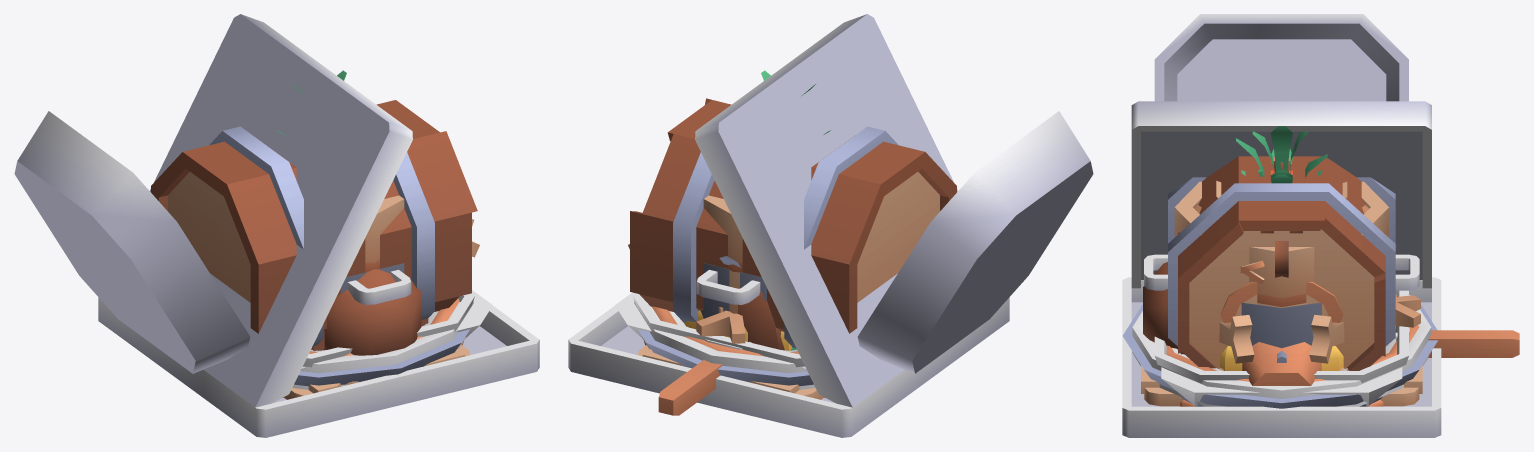
Rendered from kit-food.glb.
3 renders of one model, left to right at view 1: azimuth 30°, elevation 25°; view 2: azimuth 150°, elevation 25°; view 3: azimuth 270°, elevation 25°, orthographic. The views are drawn at different scales.
Visible parts, largest first — view 1: pizza-box, barrel, styrofoam, wholer-ham, pie, plate-deep, pot, steamer, plate-rectangle; view 2: pizza-box, barrel, styrofoam, pie, plate-deep, pot, frying-pan, steamer, turkey, wholer-ham, plate-rectangle; view 3: pizza-box, barrel, styrofoam, steamer, pot, pie, plate-deep, loaf-baguette, turkey, frying-pan, plate-rectangle, wholer-ham (+6 smaller).
Part boxes in pixels (box(x1,y1,x2,y2)): pizza-box: box(98, 14, 539, 437); barrel: box(151, 100, 477, 348); styrofoam: box(14, 111, 474, 373); wholer-ham: box(324, 269, 421, 355); pie: box(294, 298, 469, 386); plate-deep: box(300, 301, 473, 373); pot: box(341, 263, 411, 304); steamer: box(365, 195, 404, 272); plate-rectangle: box(301, 290, 492, 369); pizza-box: box(568, 14, 1009, 437); barrel: box(630, 98, 956, 348); styrofoam: box(633, 111, 1093, 373); pie: box(638, 306, 813, 386); plate-deep: box(634, 301, 807, 373); pot: box(696, 263, 766, 318); frying-pan: box(658, 360, 722, 415); steamer: box(703, 195, 742, 313); turkey: box(628, 244, 784, 350); wholer-ham: box(696, 310, 745, 343); plate-rectangle: box(615, 292, 806, 369); pizza-box: box(1122, 101, 1441, 437); barrel: box(1168, 156, 1395, 370); styrofoam: box(1154, 14, 1408, 383); steamer: box(1174, 181, 1388, 307); pot: box(1144, 254, 1419, 348); pie: box(1122, 295, 1437, 408); plate-deep: box(1132, 295, 1431, 398); loaf-baguette: box(1242, 342, 1321, 385); turkey: box(1219, 314, 1344, 363); frying-pan: box(1428, 330, 1519, 357); plate-rectangle: box(1161, 367, 1402, 406); wholer-ham: box(1143, 262, 1420, 349).
Size of the model in its own units: 1.35 by 0.9518 by 1.19.
2 materials, 1 textured.
